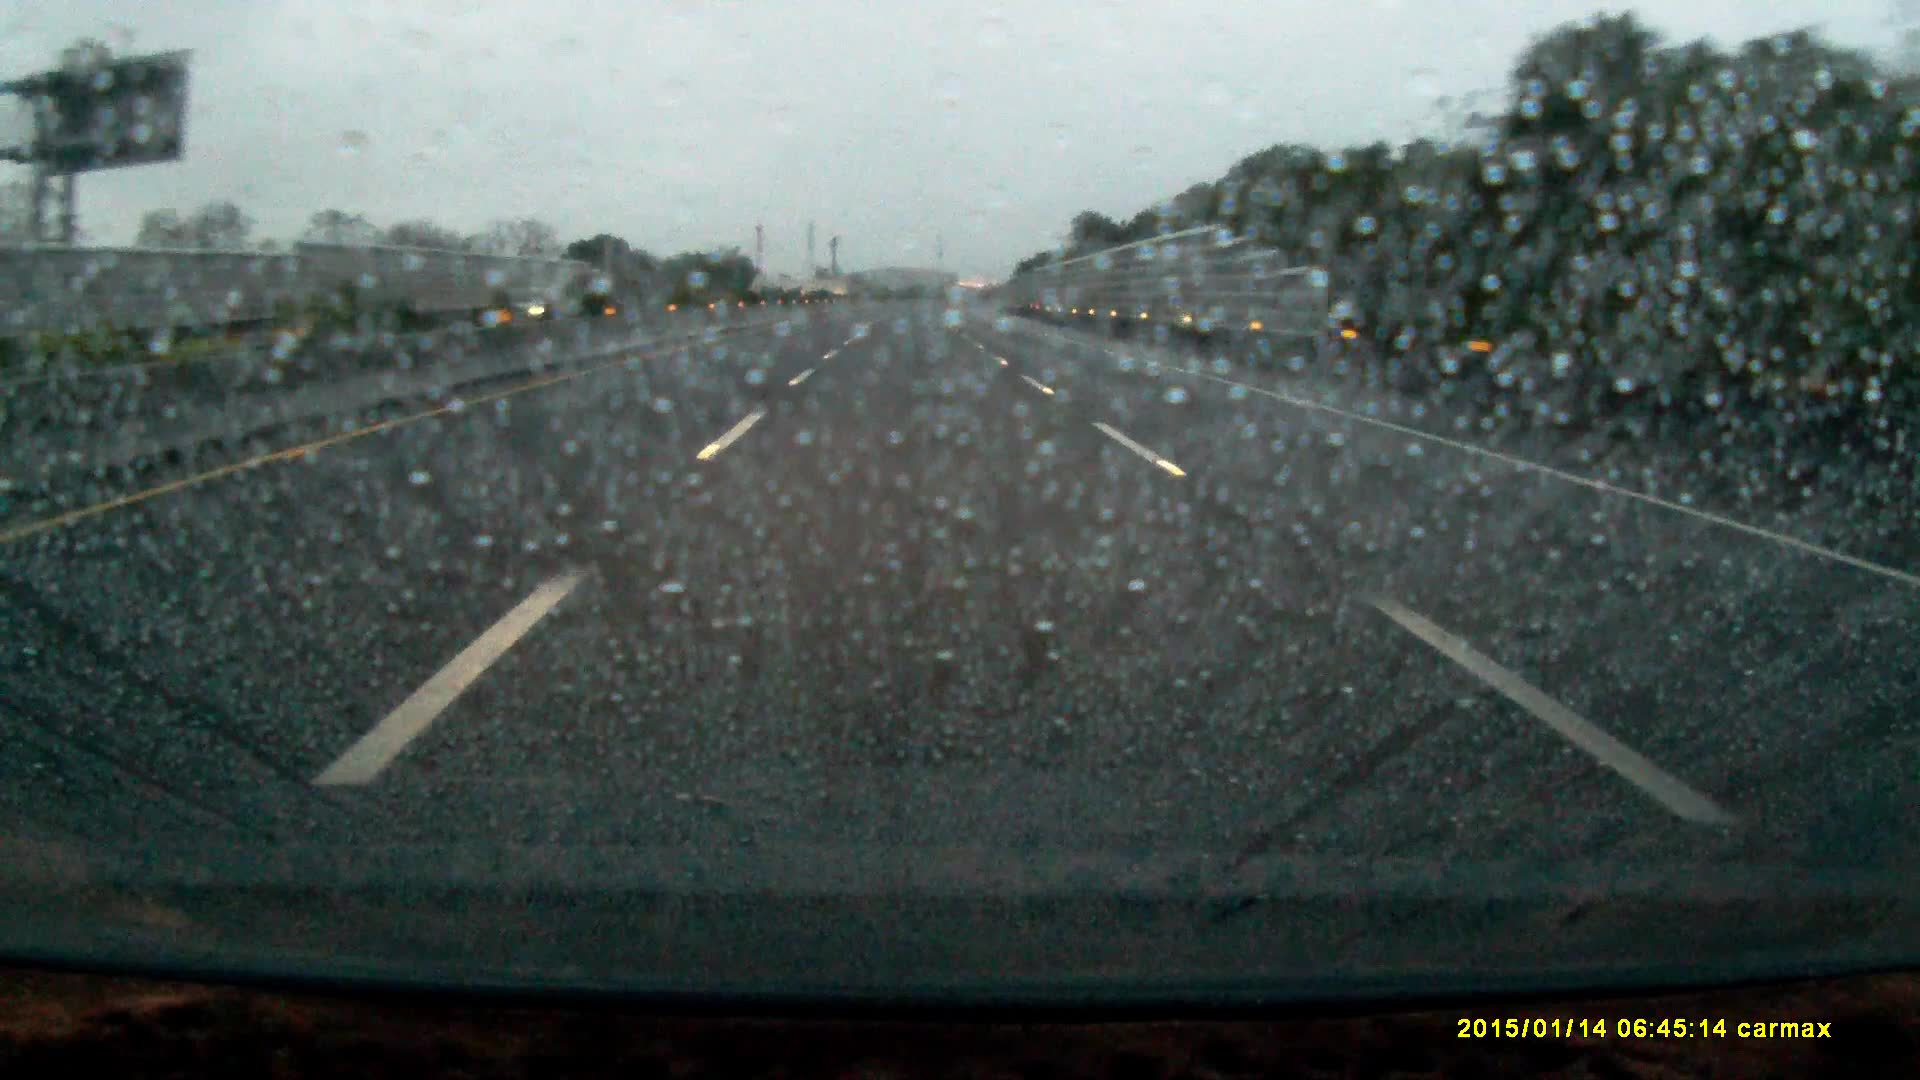vehicle: (497, 284, 559, 316)
